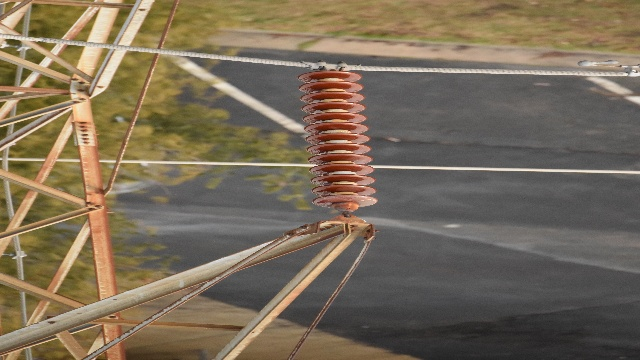insulator_unspecified: (293, 71, 377, 208)
pollution_flashover_local: (352, 198, 376, 207), (339, 186, 364, 193)
